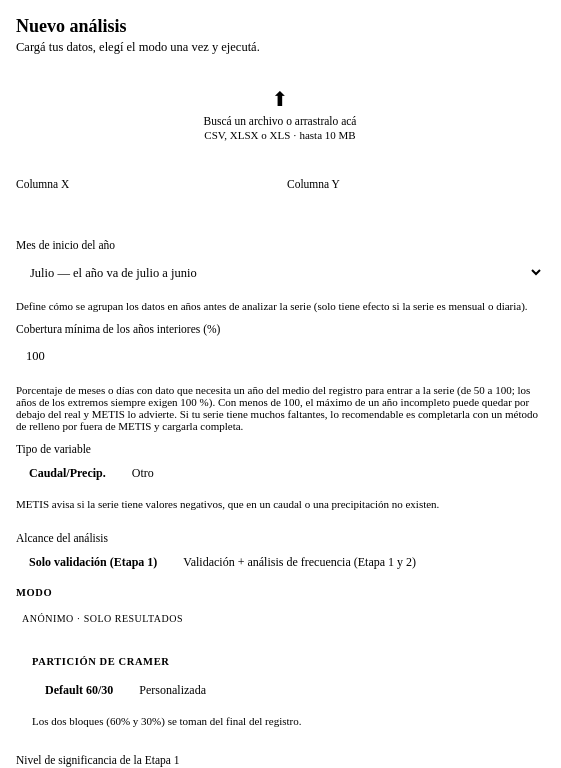
Test: ConfigPage › F2 — con Caudal/Precip. (default) se ve solo su nota; al elegir Otro se ve solo la de Otro
Expected: the heading "Nuevo análisis" is shown, [16,16,126,36]
Expected: the text "METIS avisa si la serie tiene valores negativos" is shown, [16,498,439,510]
Click the button "Otro" at [143, 474], box [119,460,167,487]
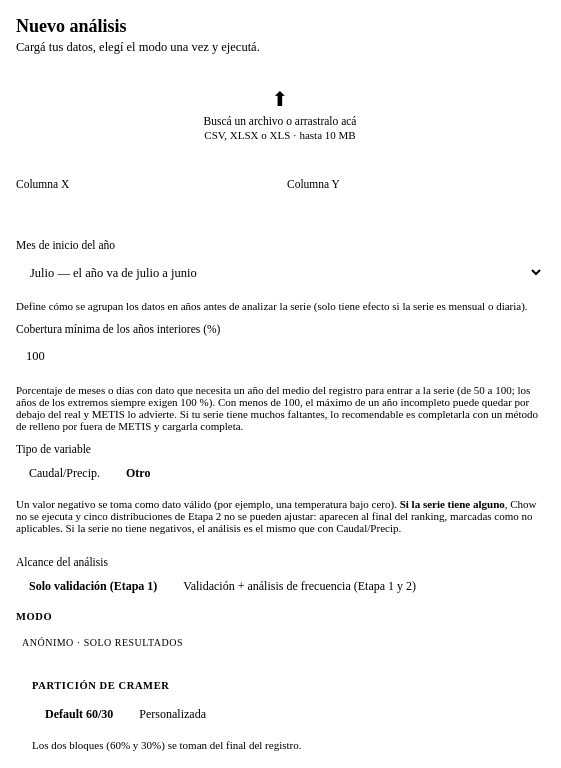
Now the text "METIS avisa si la serie tiene valores negativos" is gone
Now the text "Un valor negativo se toma como dato válido" shows "Si la serie tiene alguno, Chow no se ejecuta", box [16,498,544,534]
Now the text "Un valor negativo se toma como dato válido" shows "al final del ranking", box [16,498,536,534]
Click the button "Caudal/Precip." at [64, 474], box [16,460,113,487]
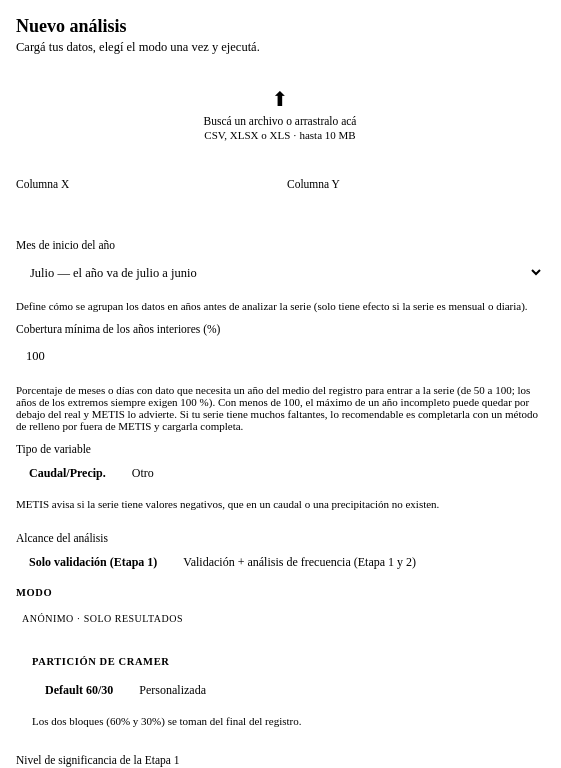
Now the text "Un valor negativo se toma como dato válido" is gone
